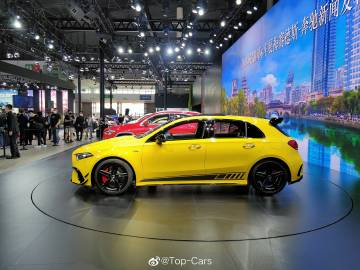other: (74, 111, 305, 198)
